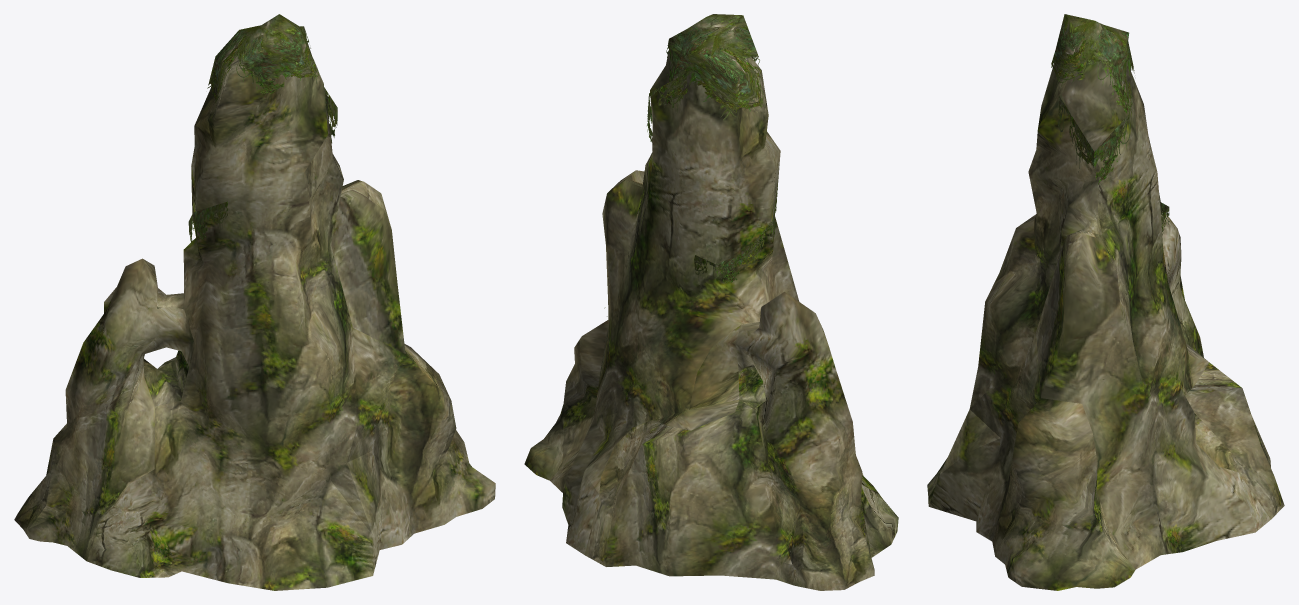
File: ZCzl_llzj_zw_cun_kou_ju_shi_002_lod0.FBX
The picture shows the model from 3 angles, left to right: view 1: azimuth 30°, elevation 25°; view 2: azimuth 150°, elevation 25°; view 3: azimuth 270°, elevation 25°; orthographic projection. The views are drawn at different scales.
Visible parts, largest first — view 1: zl_llzj_zw_cun_kou_ju_shi_002_lod0; view 2: zl_llzj_zw_cun_kou_ju_shi_002_lod0; view 3: zl_llzj_zw_cun_kou_ju_shi_002_lod0.
Boxes of the visible parts, x1,y1,x2,y2 form: zl_llzj_zw_cun_kou_ju_shi_002_lod0: (14,14,495,590); zl_llzj_zw_cun_kou_ju_shi_002_lod0: (524,14,898,590); zl_llzj_zw_cun_kou_ju_shi_002_lod0: (927,14,1284,590).
Size of the model in its own units: 10.99 by 13.18 by 8.85.
